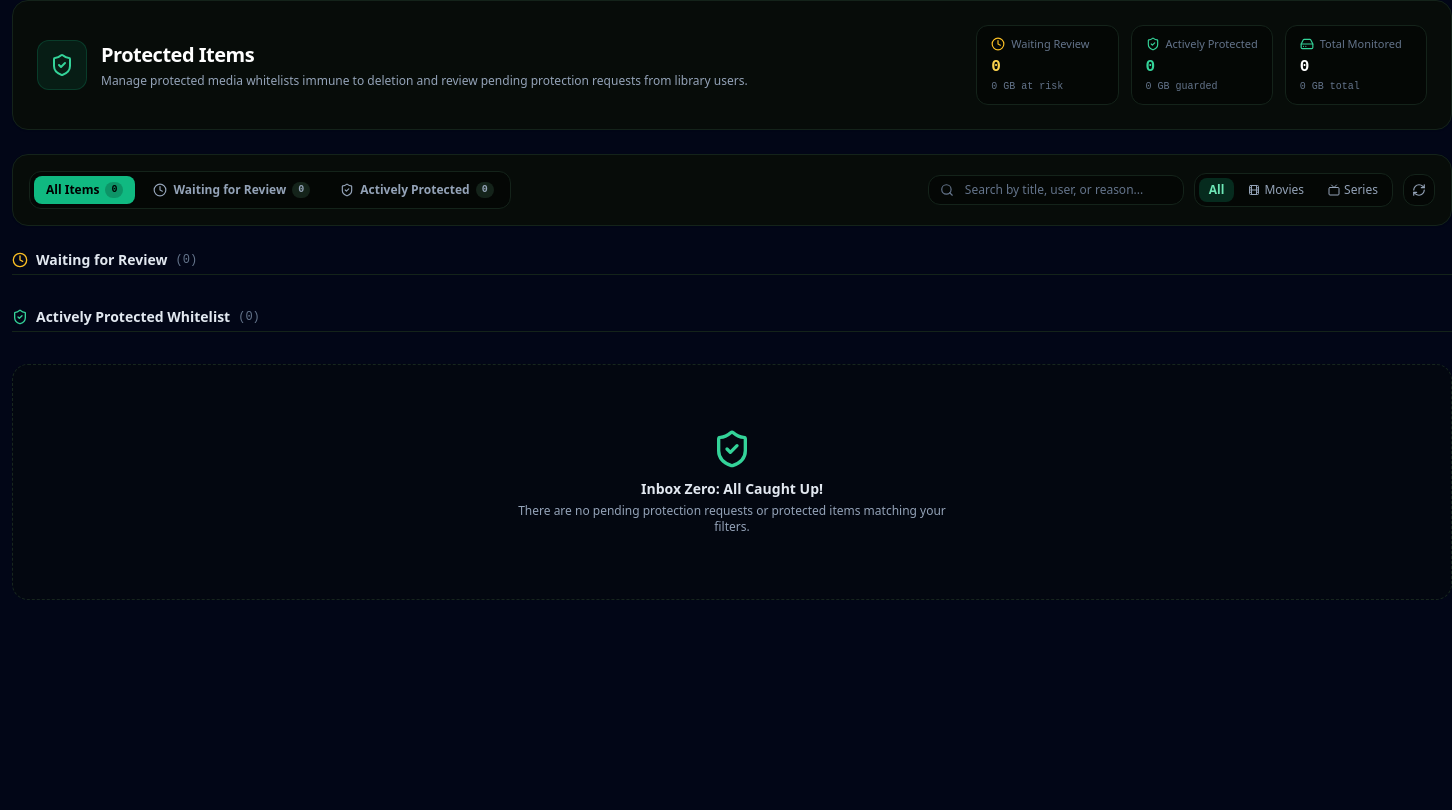
Test case: ProtectedItemsPage component › renders empty states when there are no items
Expected: the heading "Inbox Zero: All Caught Up!" is shown, [641,478,823,498]
# In 'Waiting for Review'
Step 1. Click the button "Waiting for Review 0" → (232, 190), box [142,176,322,204]
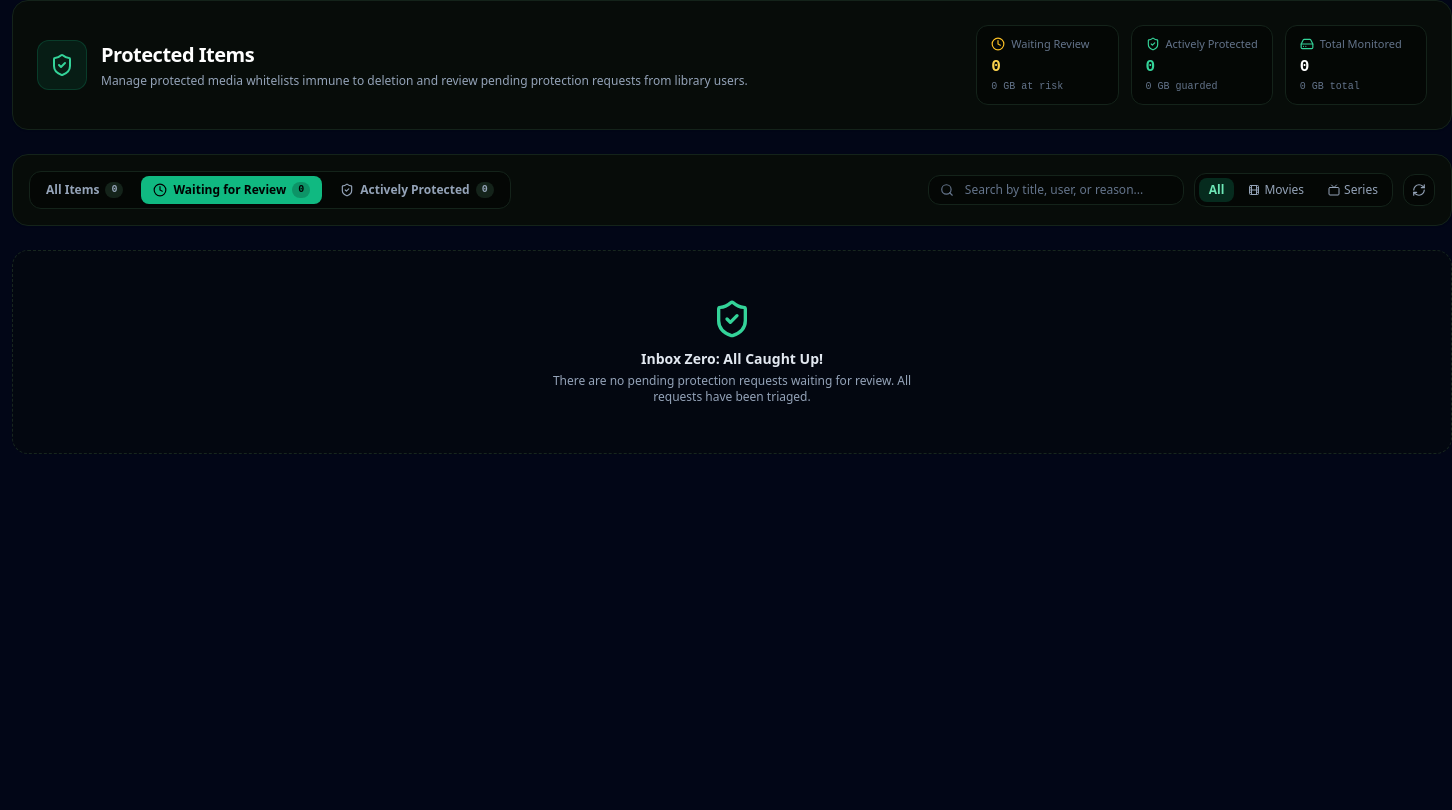
Expected: the heading "Inbox Zero: All Caught Up!" is shown, [641,348,823,368]
# In 'Actively Protected'
Step 2. Click the button "Actively Protected 0" → (417, 190), box [328,176,506,204]
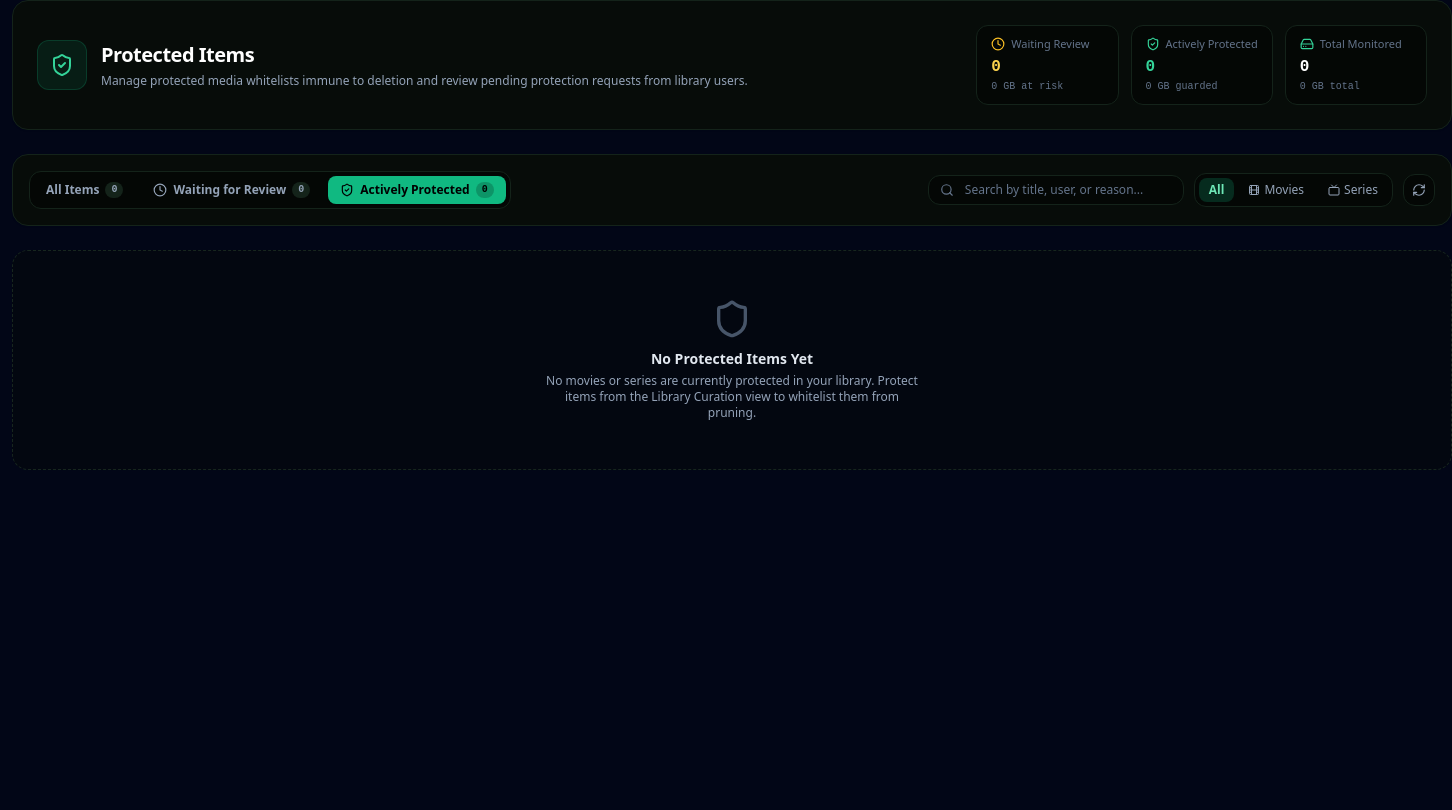
Expected: the heading "No Protected Items Yet" is shown, [651,348,813,368]
